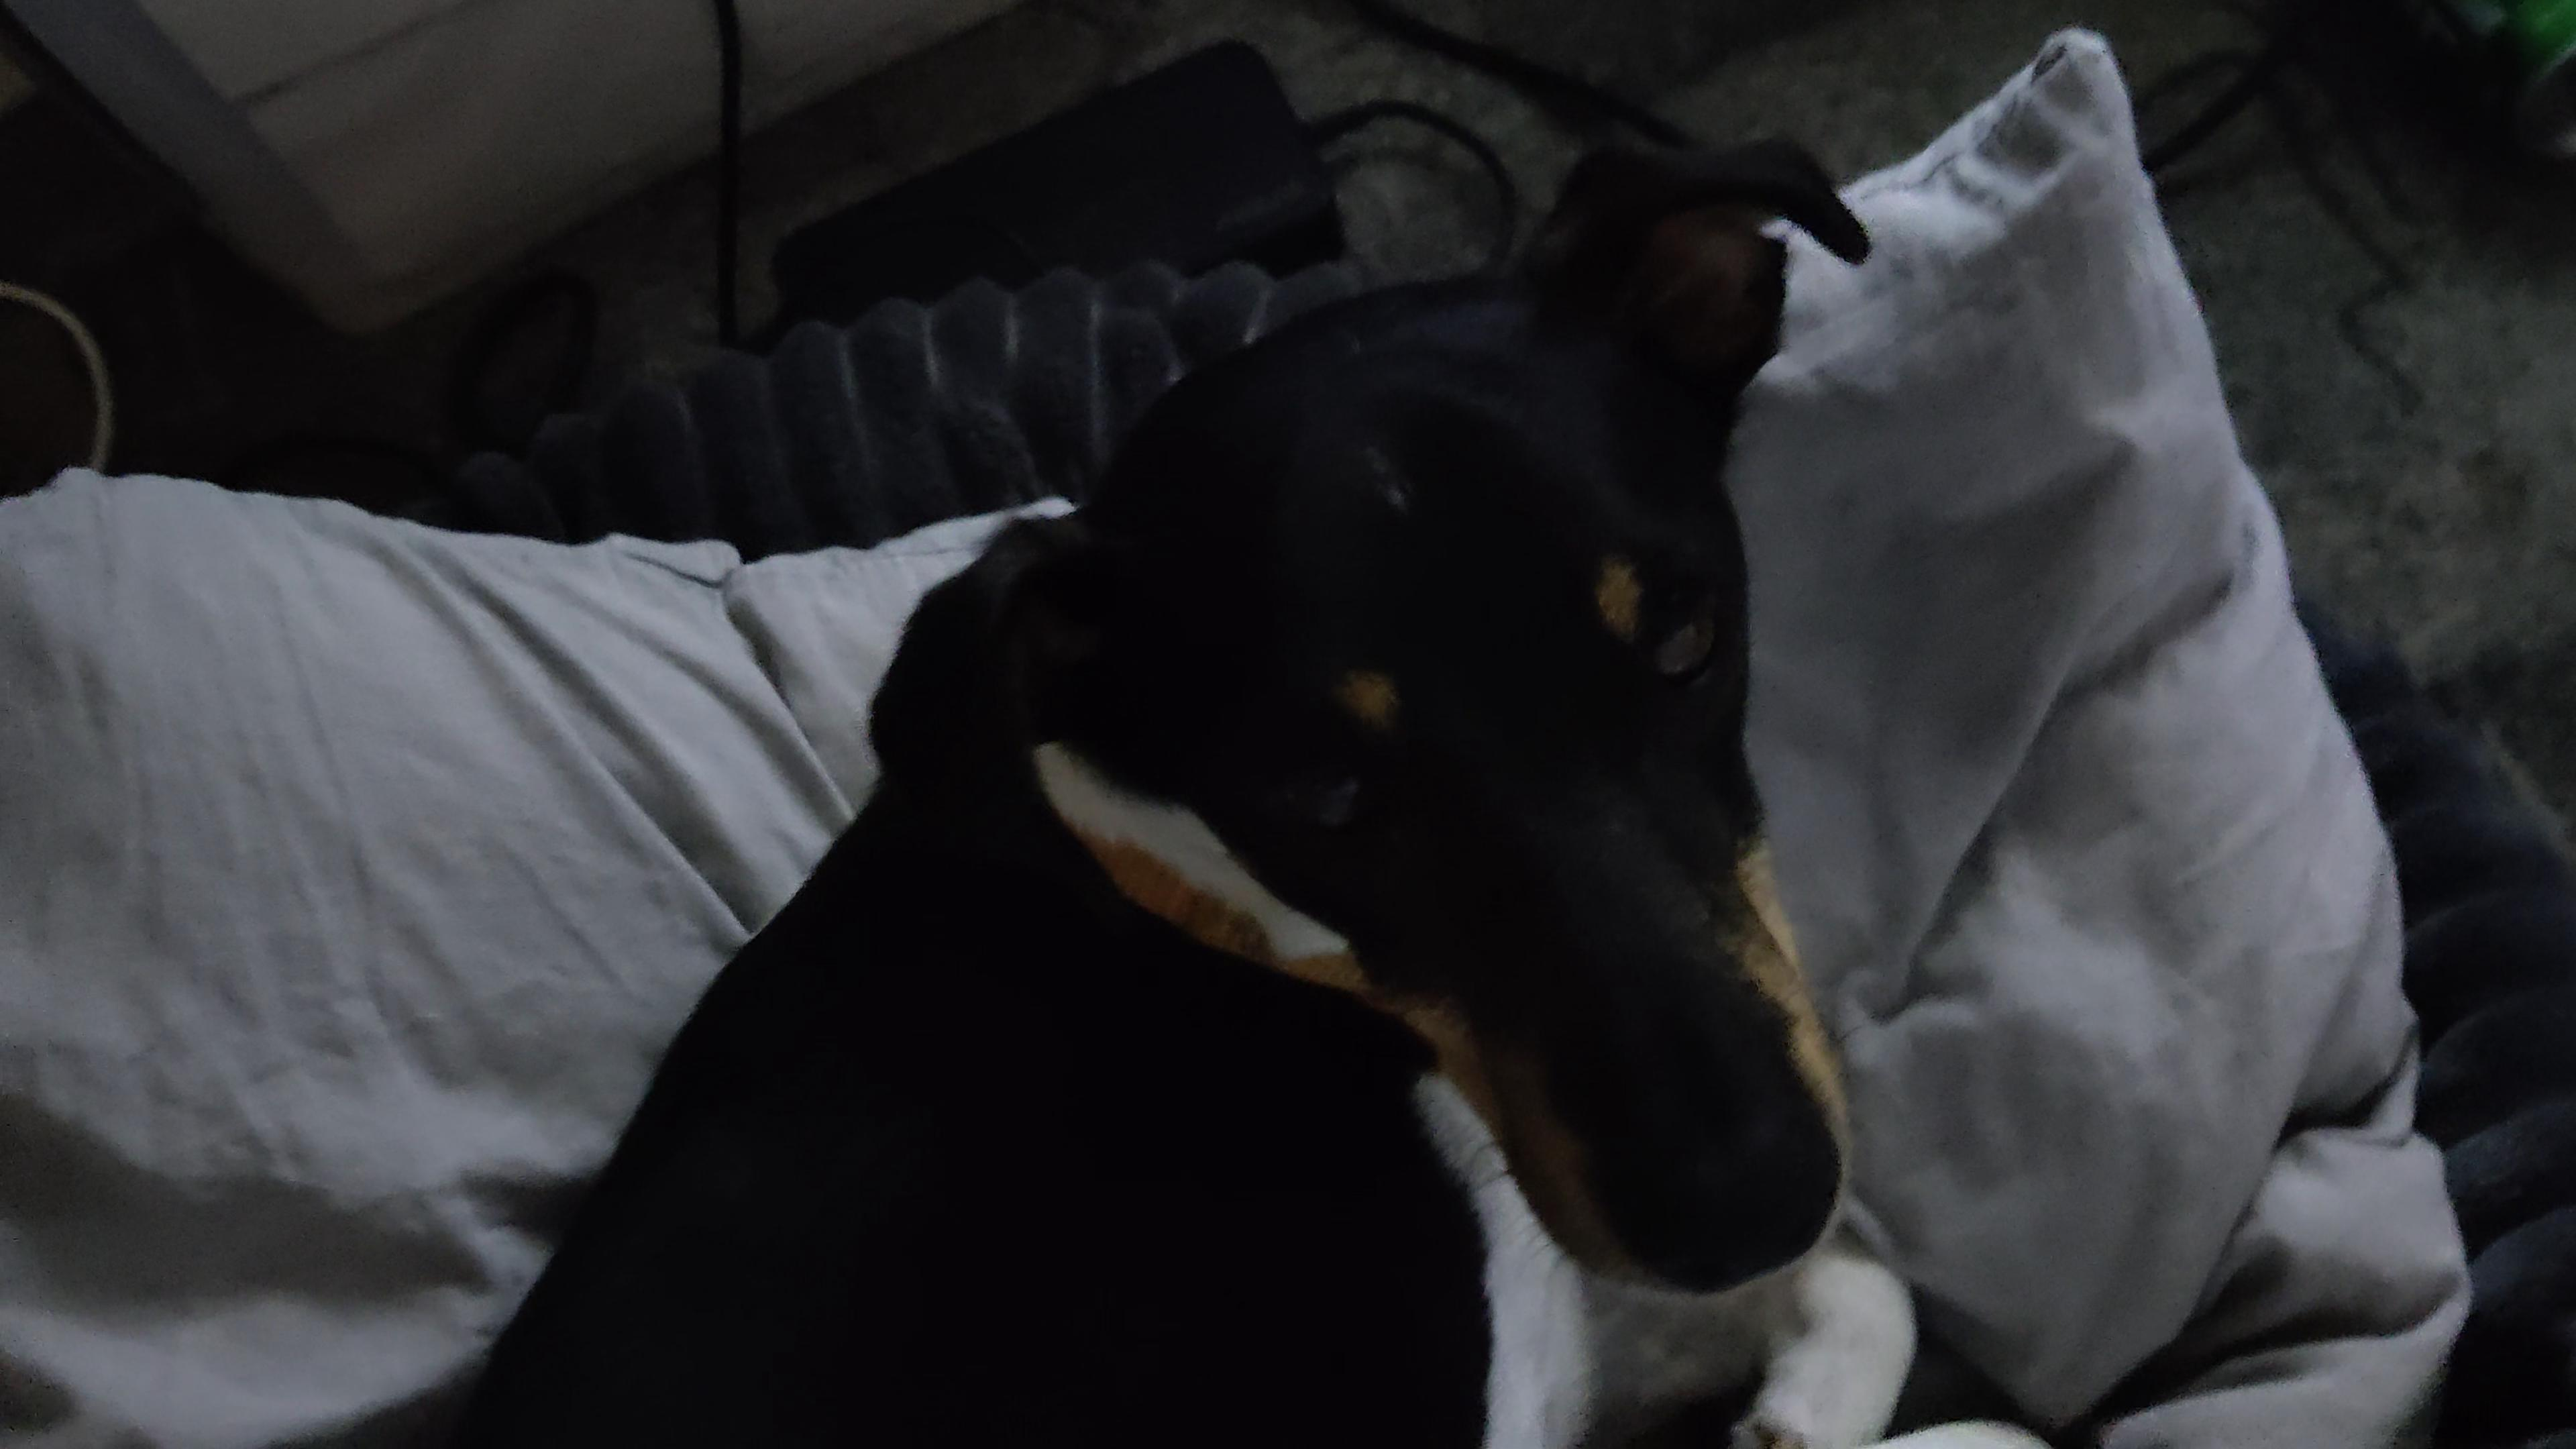Dog: (428, 113, 2095, 1449)
